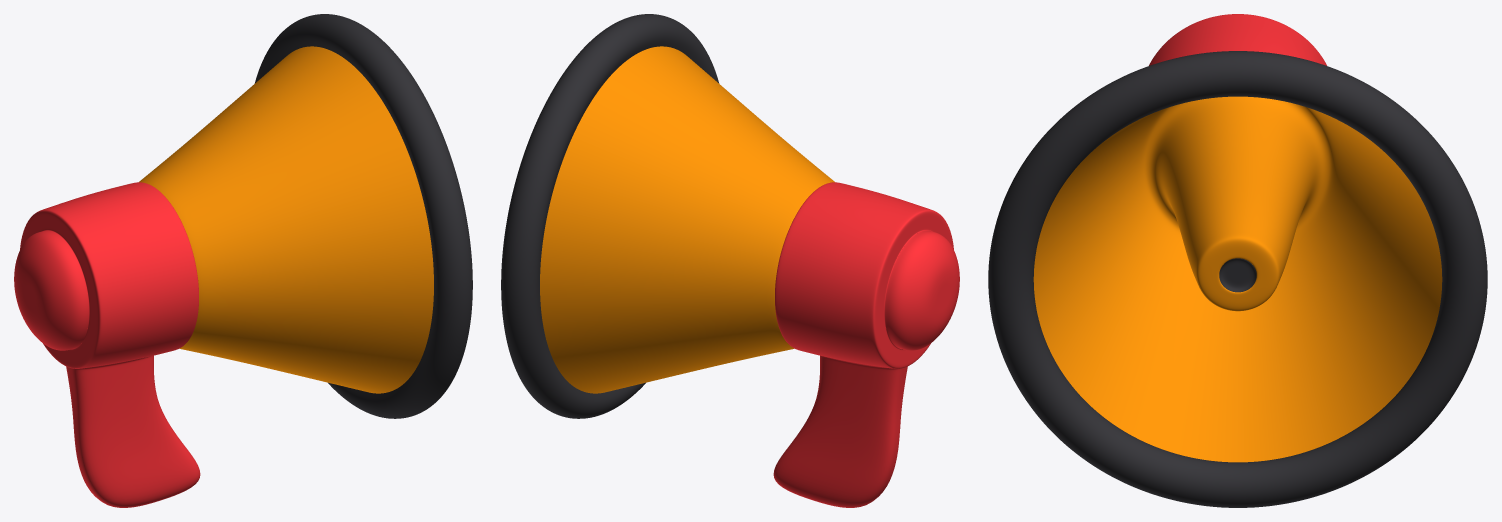
Rendered from megaphone.glb.
The picture shows the model from 3 angles, left to right: view 1: azimuth 30°, elevation 25°; view 2: azimuth 150°, elevation 25°; view 3: azimuth 270°, elevation 25°; orthographic projection. The views are drawn at different scales.
Visible parts, largest first — view 1: Annoucement; view 2: Annoucement; view 3: Annoucement.
Boxes of the visible parts, x1=… form: Annoucement: x1=14, y1=14, x2=472, y2=507; Annoucement: x1=501, y1=14, x2=959, y2=507; Annoucement: x1=988, y1=14, x2=1487, y2=507.
Bounding box in the file's own units: 1.61 × 1.87 × 1.67.
